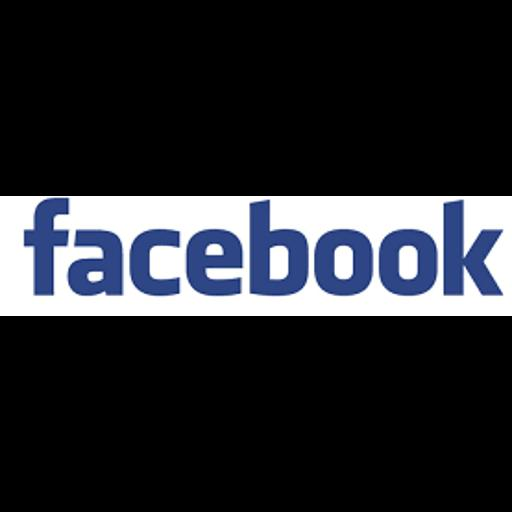Facebook: (0, 196, 512, 316)
